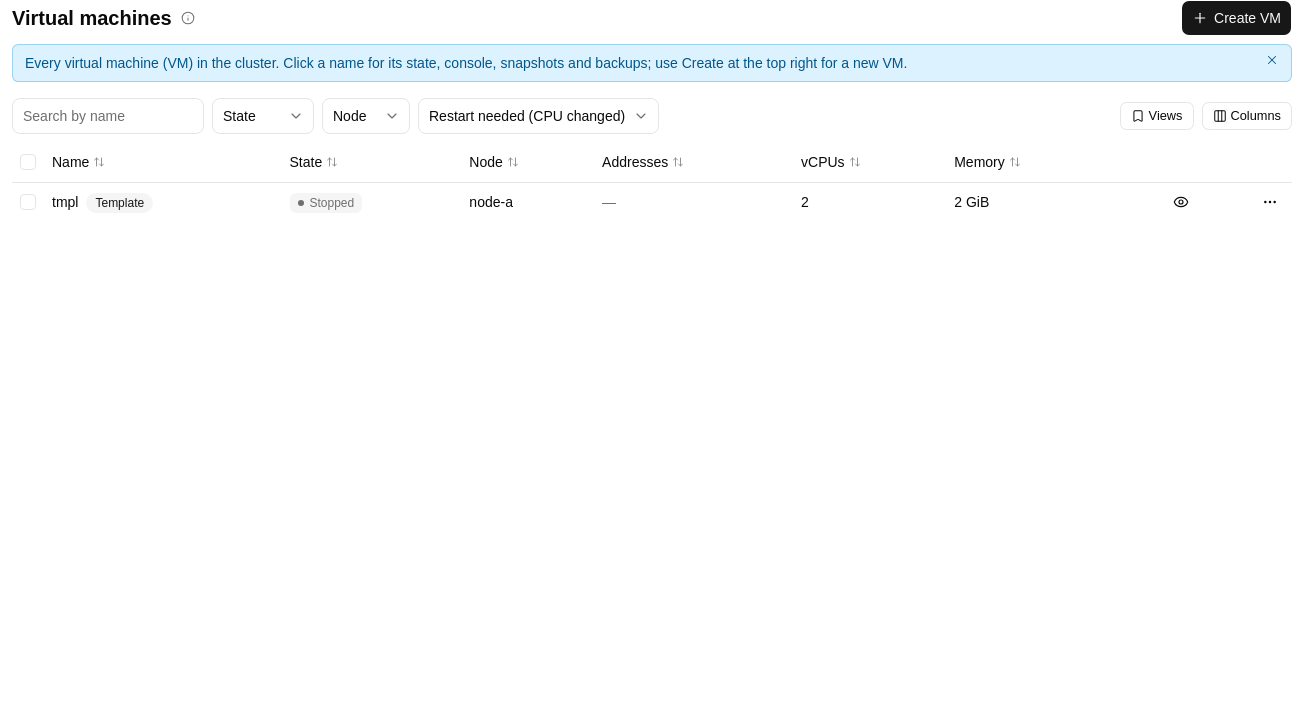
Test: shows templates in the VM list and blocks starting them
Check: the text "Template" is shown, box [86, 193, 153, 213]
Click the button named "Actions for tmpl": (1270, 202) [1256, 188, 1284, 216]
(page scrolled)
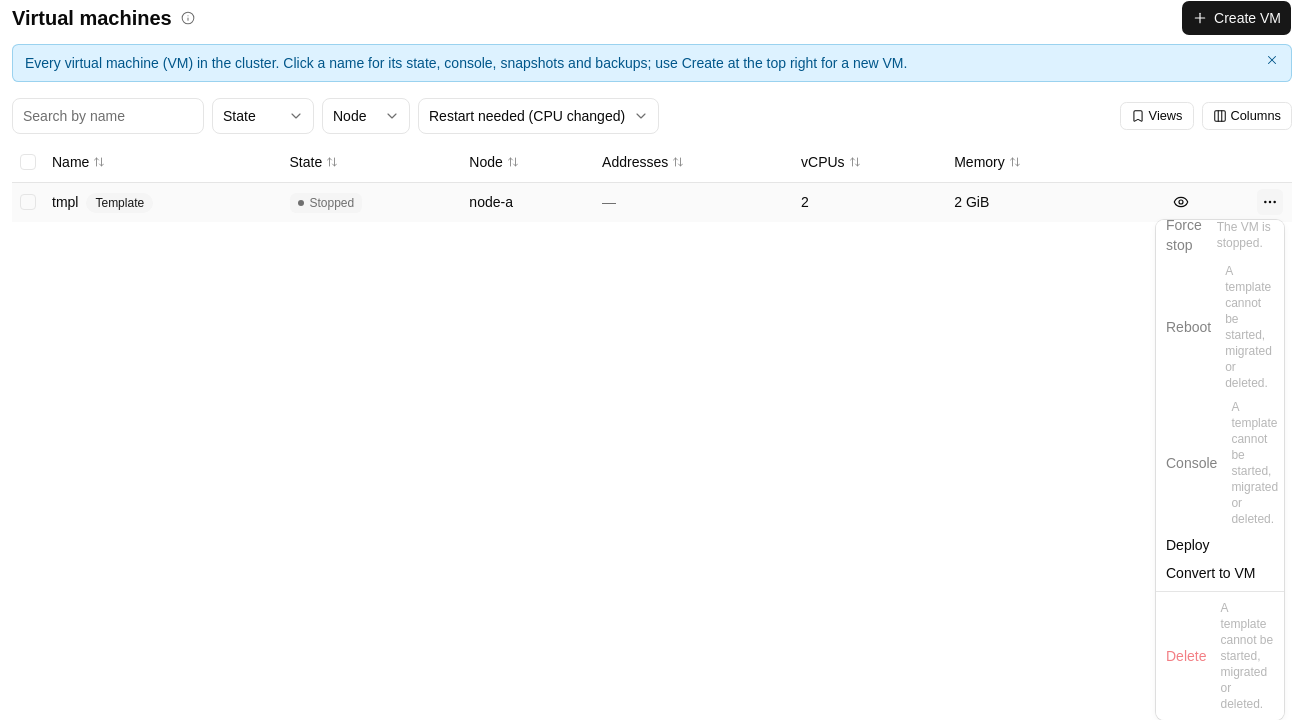
Check: the menu item "Deploy" is shown, box [1166, 537, 1210, 553]
Check: the menu item "Convert to VM" is shown, box [1166, 565, 1256, 581]
